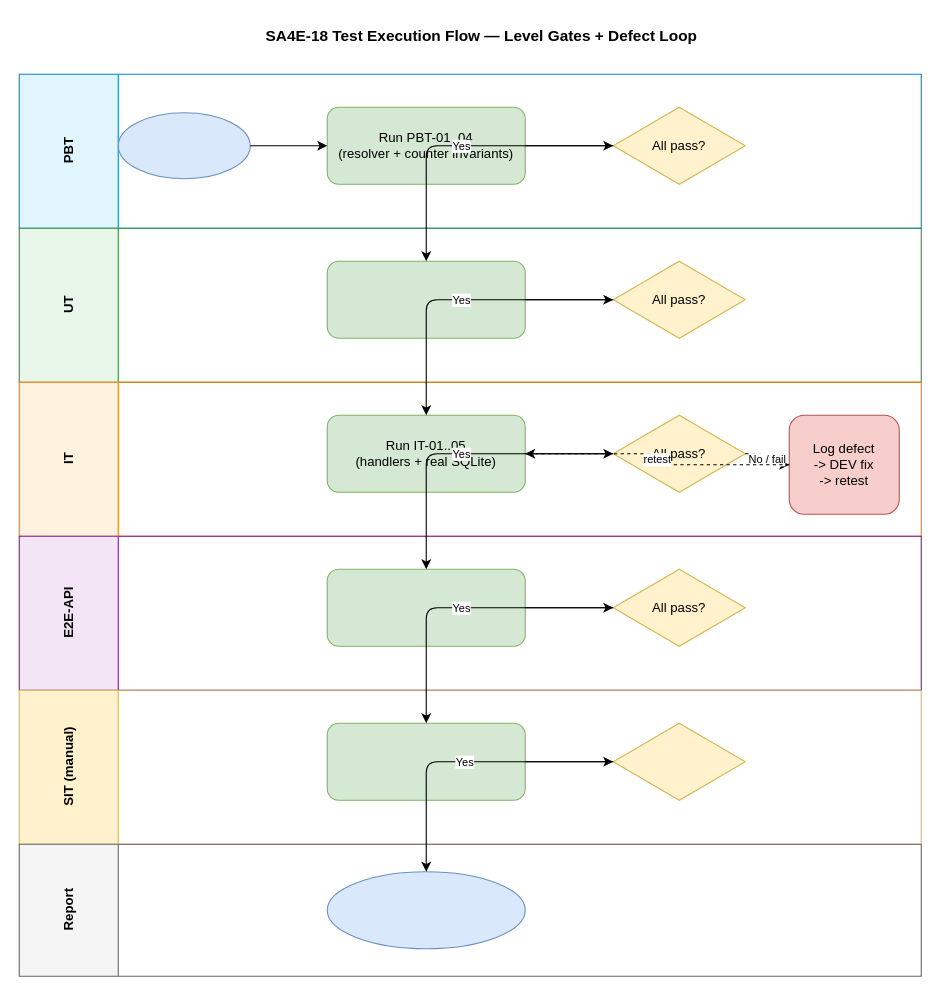
This 941x996 diagram has some shape labels left out. Here are the shapes that lost their labels. From the top down, the centre of each, then its label:
the point at 183,145: Build passes (npm run build)
the point at 425,299: Run UT-01..12 (edge cases, branches >=90%)
the point at 425,607: Run E2E-API-01..10 (TDD 11.2; token>=70%)
the point at 425,761: Manual SIT-01..03 (context, operator read, config)
the point at 678,761: Pass?
the point at 425,910: TEST-REPORT + RTM 100% (all levels green)
